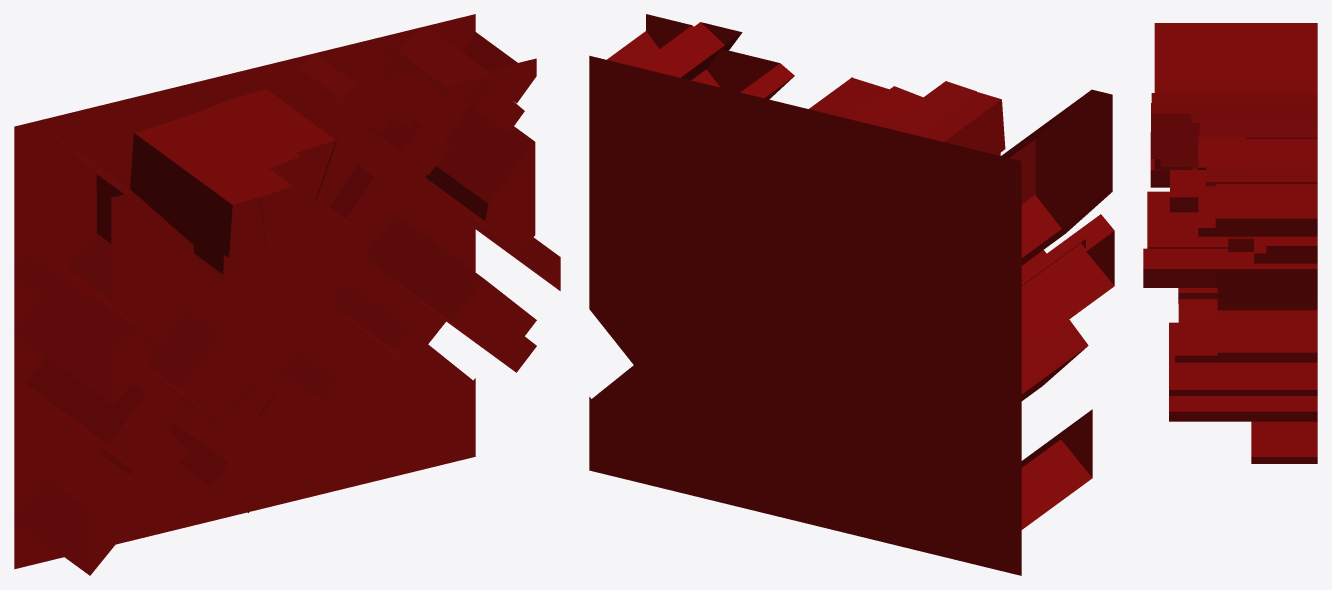
File: city.obj
The picture shows the model from 3 angles, left to right: view 1: azimuth 30°, elevation 25°; view 2: azimuth 150°, elevation 25°; view 3: azimuth 270°, elevation 25°; orthographic projection. The views are drawn at different scales.
Size of the model in its own units: 100 by 91.68 by 38.95.
